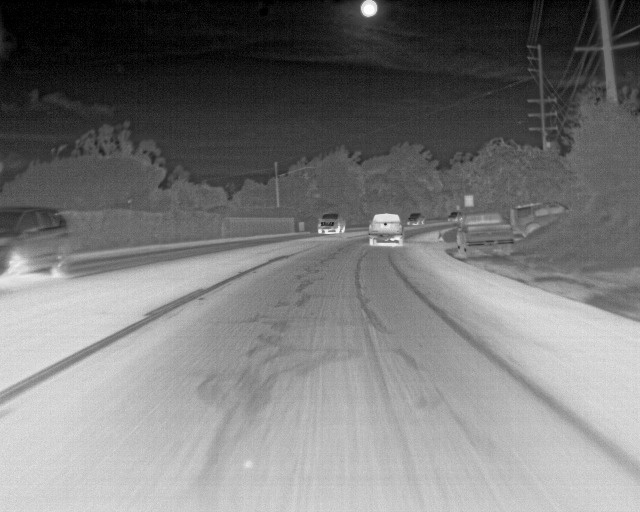vehicle: (1, 204, 71, 279), (456, 209, 515, 262), (369, 213, 405, 243), (319, 210, 349, 235), (406, 212, 429, 227)
